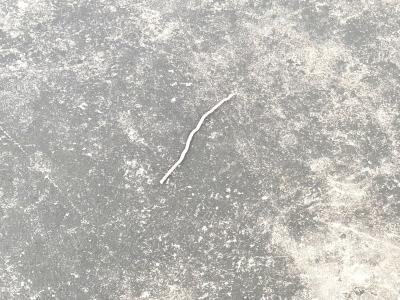Root: (160, 93, 235, 184)
